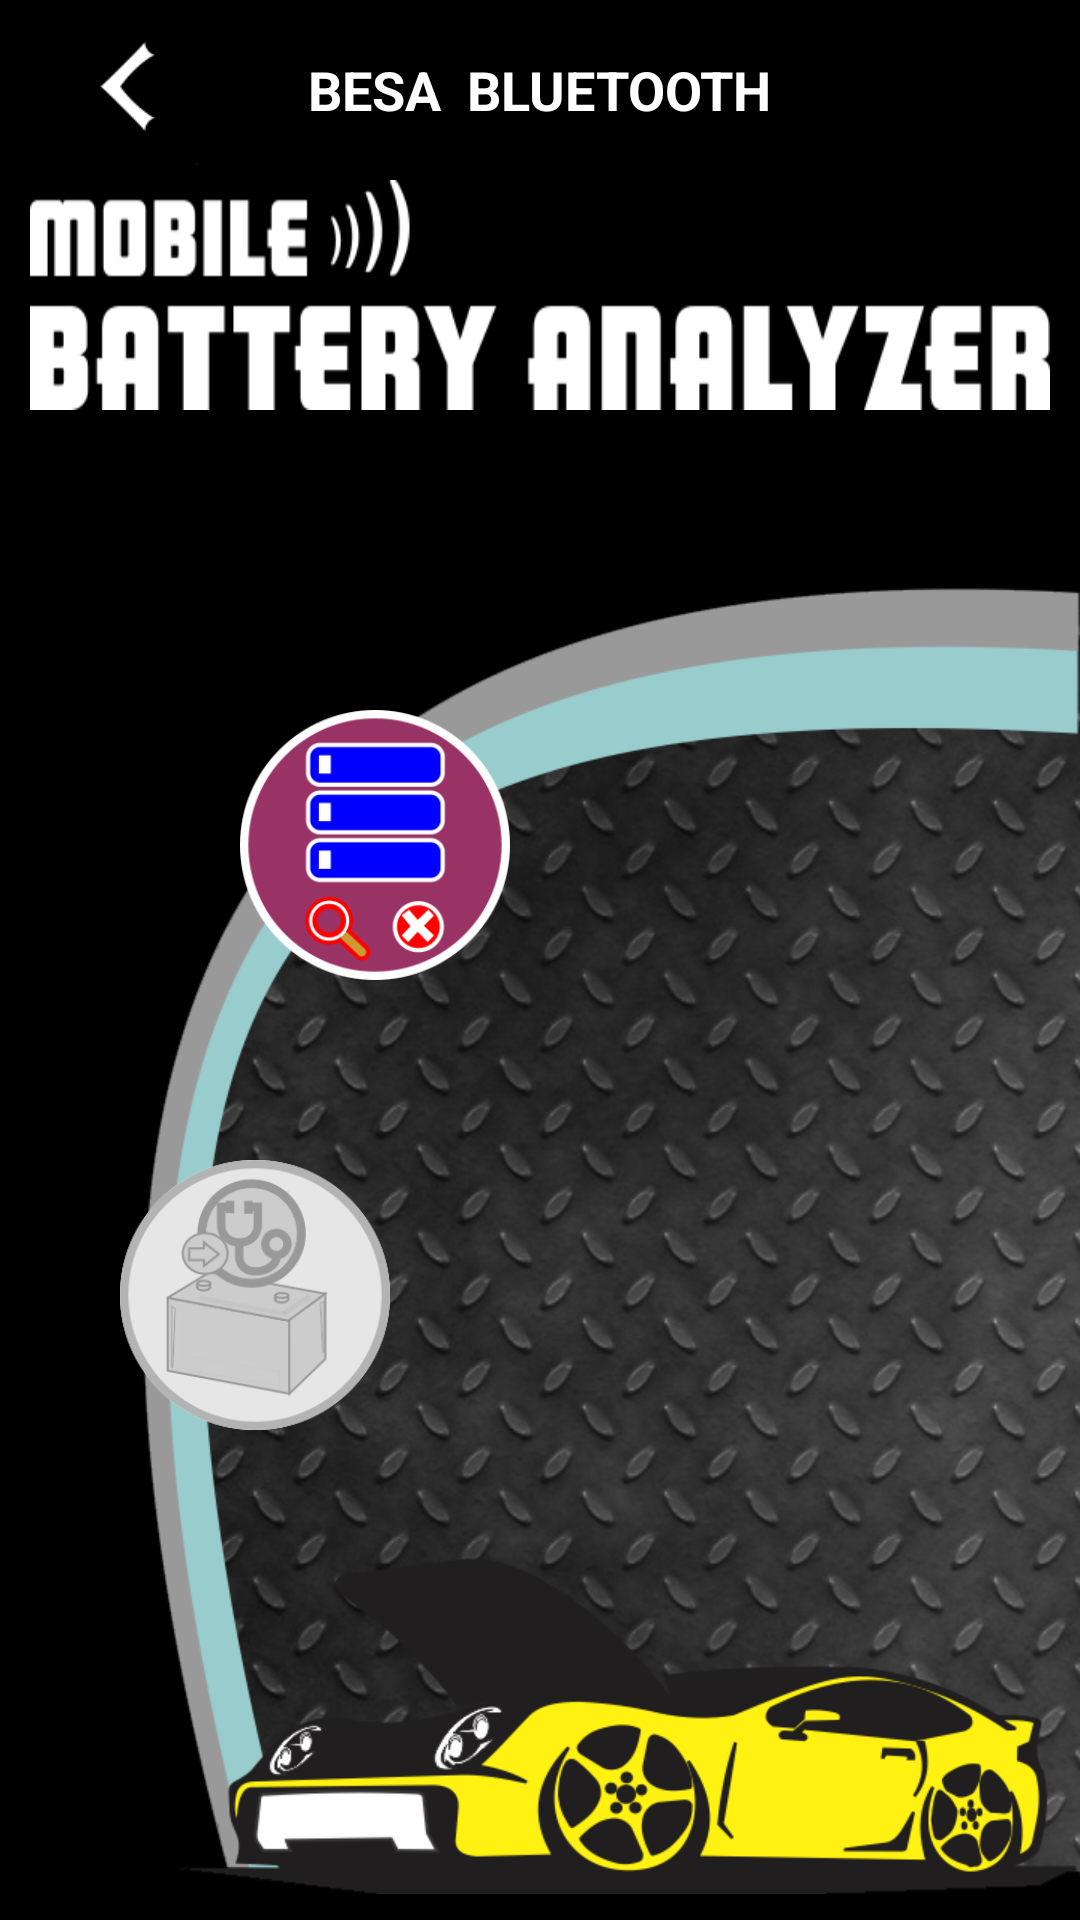

Icon click points for this 1080px x 1920px phone screenshot, format (x=x, y=y):
back: (x=127, y=86)
searcherase: (x=375, y=845)
